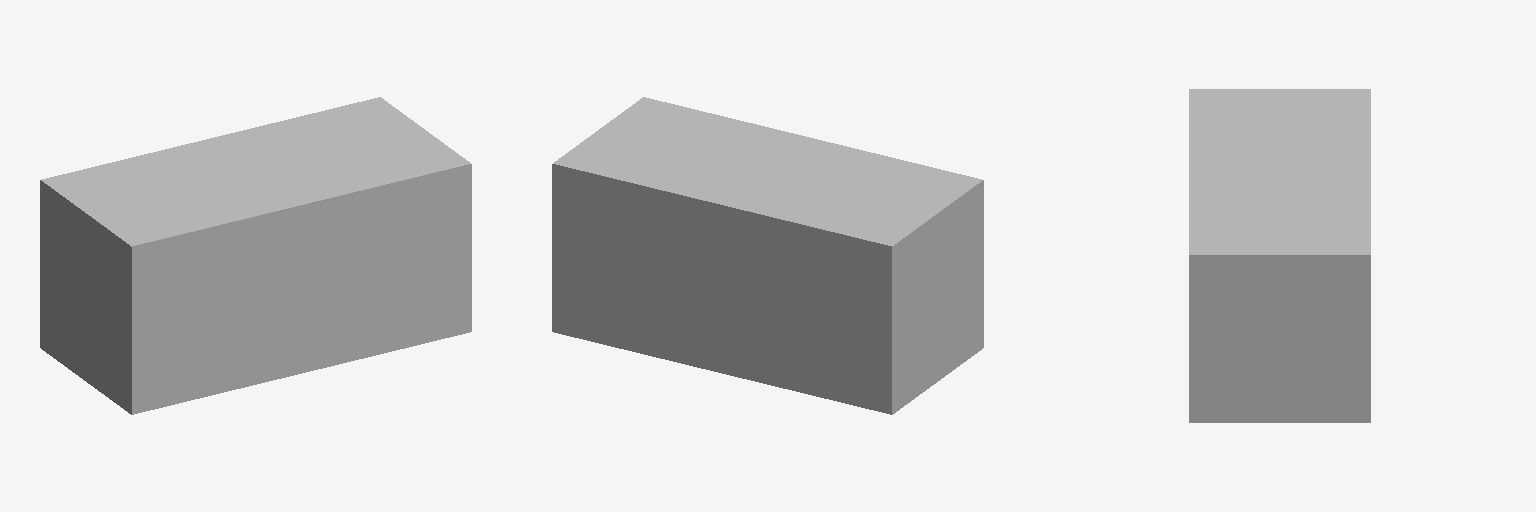
Rendered from break_terrain.obj.
3 views of the same model, side by side, from view 1: azimuth 30°, elevation 25°; view 2: azimuth 150°, elevation 25°; view 3: azimuth 270°, elevation 25° (orthographic).
Parts seen in each view (by area): view 1: Box001_Part_65, Box001_Part_61, Box001_Part_70, Box001_Part_62, Box001_Part_94, Box001_Part_45, Box001_Part_69, Box001_Part_67, Box001_Part_3, Box001_Part_92, Box001_Part_96, Box001_Part_66 (+28 smaller); view 2: Box001_Part_74, Box001_Part_3, Box001_Part_82, Box001_Part_31, Box001_Part_8, Box001_Part_29, Box001_Part_14, Box001_Part_13, Box001_Part_10, Box001_Part_61, Box001_Part_73, Box001_Part_76 (+28 smaller); view 3: Box001_Part_99, Box001_Part_94, Box001_Part_12, Box001_Part_19, Box001_Part_61, Box001_Part_100, Box001_Part_35, Box001_Part_15, Box001_Part_66, Box001_Part_17, Box001_Part_78, Box001_Part_84 (+19 smaller).
Part boxes in pixels (x1,y1,x2,y2): Box001_Part_65: (131,179,354,356); Box001_Part_61: (109,195,378,310); Box001_Part_70: (257,185,390,367); Box001_Part_62: (113,260,365,414); Box001_Part_94: (402,140,471,266); Box001_Part_45: (307,160,372,272); Box001_Part_69: (111,268,352,358); Box001_Part_67: (195,171,362,398); Box001_Part_3: (40,168,110,261); Box001_Part_92: (388,237,471,351); Box001_Part_96: (399,263,471,342); Box001_Part_66: (202,178,360,375); Box001_Part_74: (628,242,845,393); Box001_Part_3: (837,216,932,306); Box001_Part_82: (693,190,781,296); Box001_Part_31: (552,179,983,325); Box001_Part_8: (786,197,851,298); Box001_Part_29: (635,306,783,382); Box001_Part_14: (553,166,622,231); Box001_Part_13: (552,215,658,337); Box001_Part_10: (702,291,912,374); Box001_Part_61: (856,156,983,230); Box001_Part_73: (584,258,658,324); Box001_Part_76: (692,148,781,196); Box001_Part_99: (1189,210,1343,375); Box001_Part_94: (1189,226,1297,343); Box001_Part_12: (1251,230,1370,304); Box001_Part_19: (1210,200,1370,422); Box001_Part_61: (1189,89,1278,140); Box001_Part_100: (1191,202,1303,422); Box001_Part_35: (1296,92,1370,392); Box001_Part_15: (1214,210,1300,357); Box001_Part_66: (1189,140,1293,173); Box001_Part_17: (1302,251,1370,373); Box001_Part_78: (1241,193,1370,221); Box001_Part_84: (1304,139,1370,184).
Size of the model in its own units: 83.61 by 39.6 by 38.84.